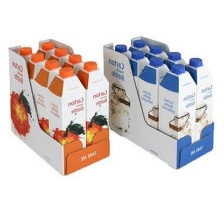carton: (48, 65, 85, 151), (158, 61, 197, 140), (184, 55, 217, 140), (75, 59, 109, 140), (31, 58, 62, 135), (139, 57, 169, 131)
